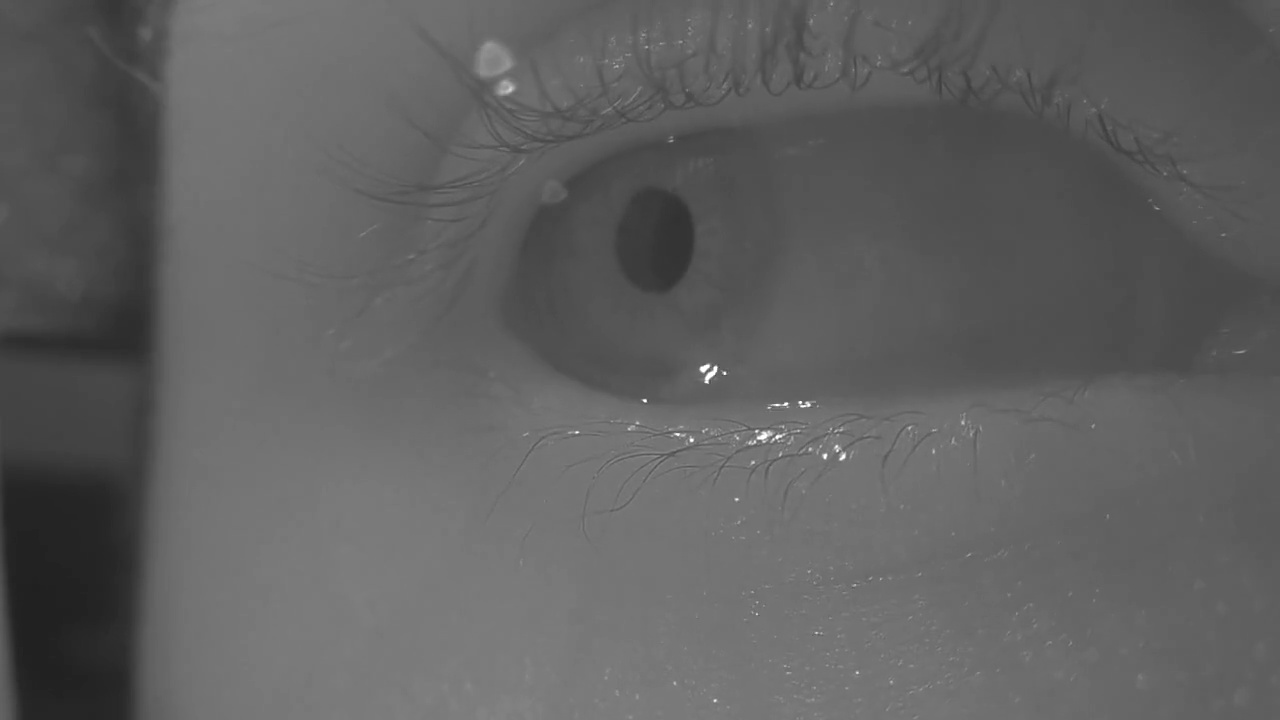pupil: (617, 187, 692, 292)
